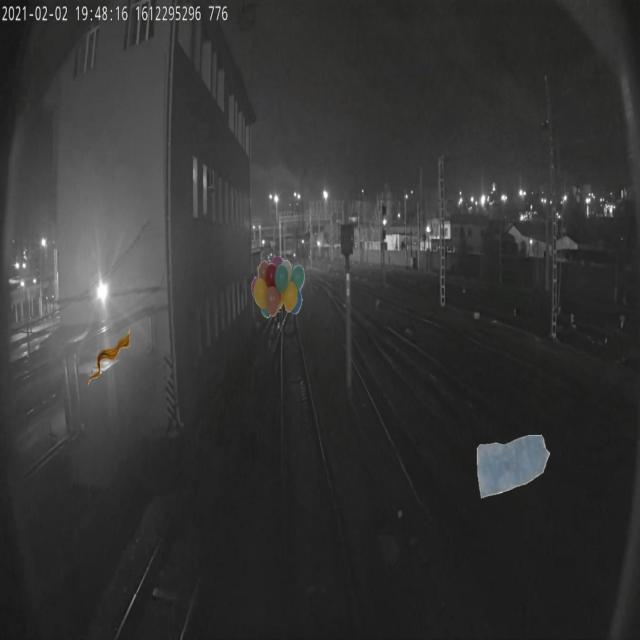balloon: (250, 254, 304, 318)
floating object: (86, 326, 130, 390)
plastic bag: (476, 434, 550, 498)
